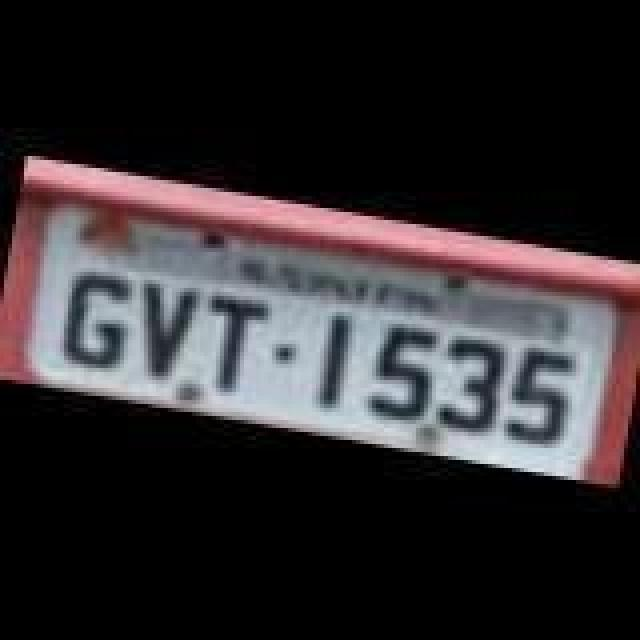1: (312, 304, 360, 408)
3: (432, 334, 512, 434)
5: (496, 346, 576, 454), (362, 316, 438, 428)
G: (54, 264, 138, 376)
T: (192, 292, 272, 396)
V: (124, 278, 204, 386)
